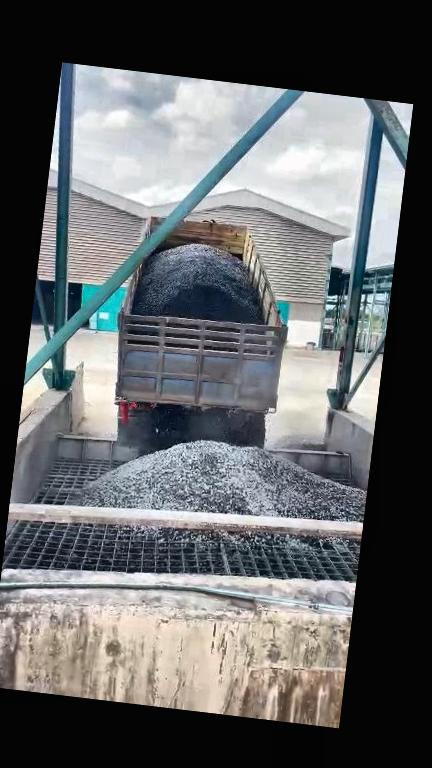gravel: (77, 440, 365, 520), (133, 244, 262, 323), (118, 405, 266, 455), (121, 524, 334, 549), (268, 435, 324, 450)
